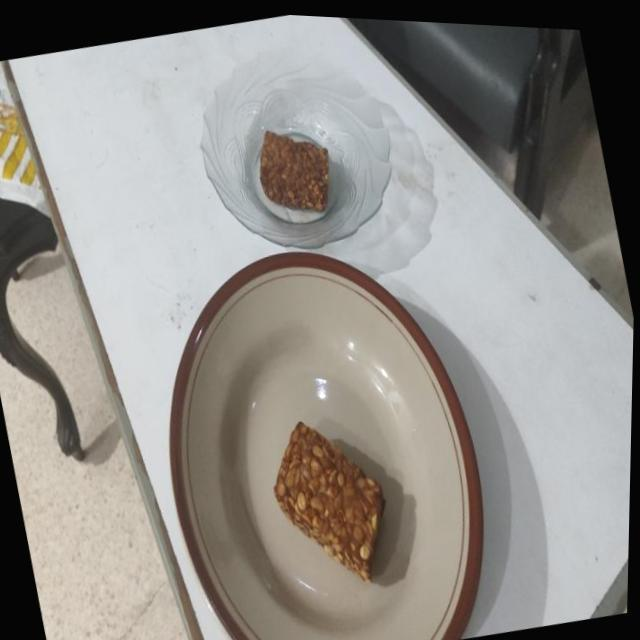tempe_goreng: (274, 422, 384, 581), (260, 131, 328, 210)
